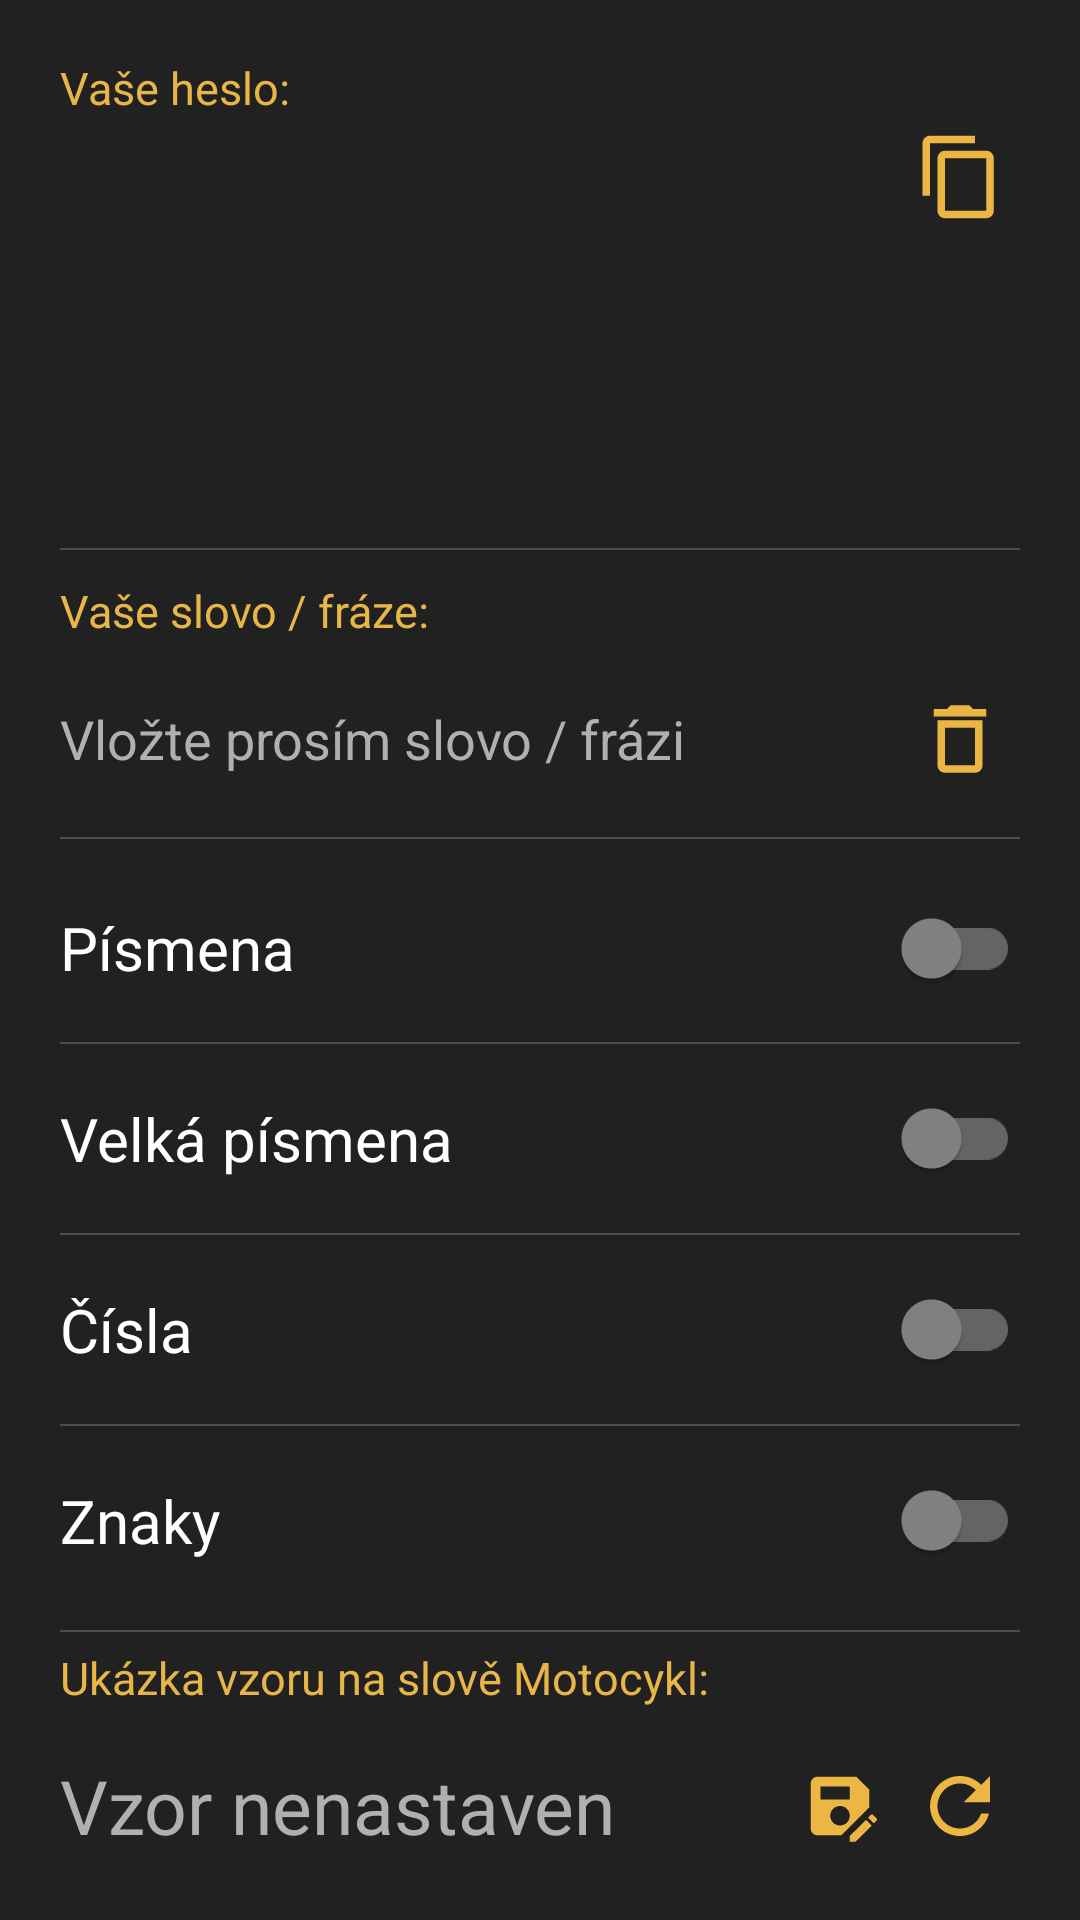

Icon bounding boxes for this 1080w x 1920h phone screenshot, format (x1, y1, x2, y2):
avd delete: (933, 705, 987, 773)
avd refresh: (930, 1776, 990, 1836)
save: (810, 1776, 877, 1842)
